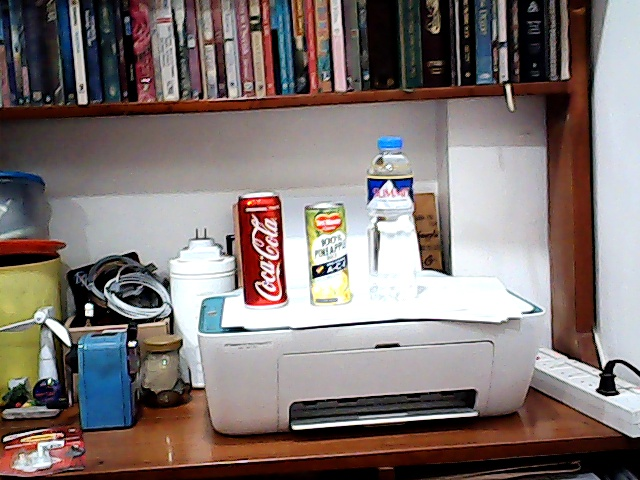Cola: (231, 191, 293, 312)
Pine Juice: (300, 198, 354, 312)
Summit Water: (360, 134, 432, 307)
